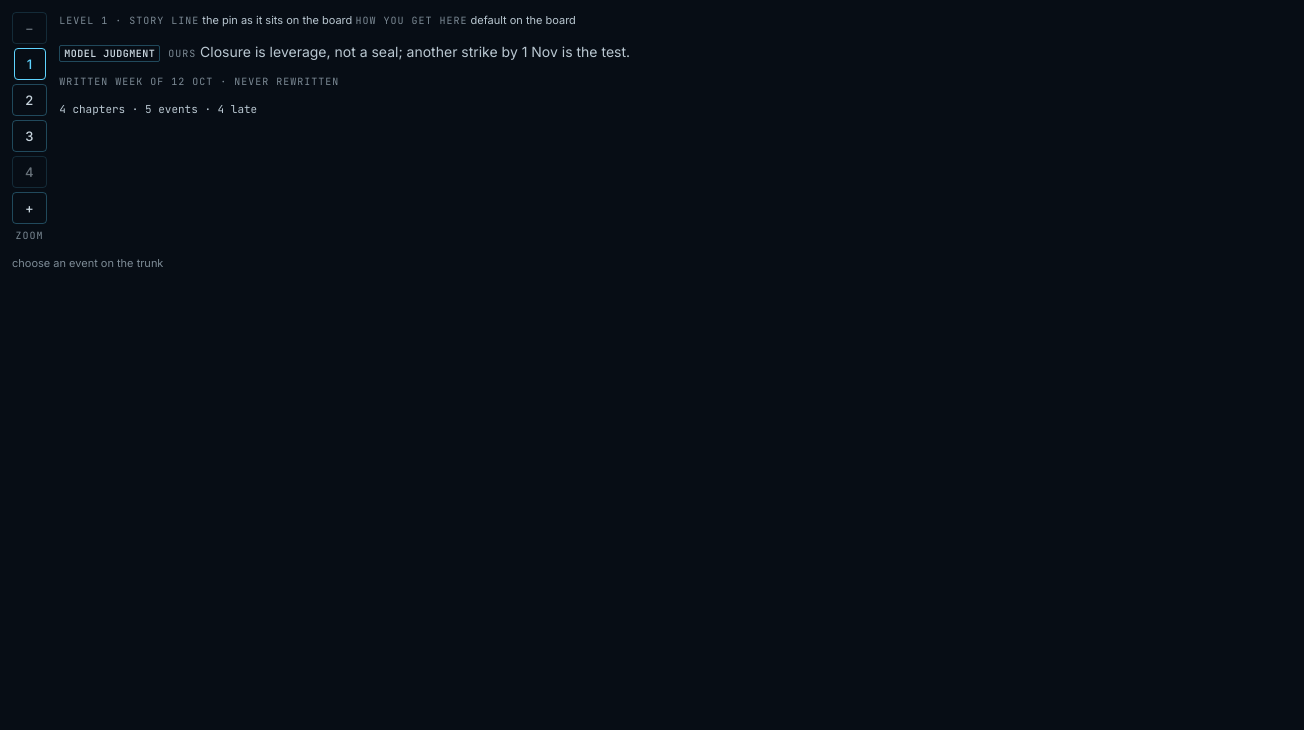
facts date: the record's, not the quiet story's › an unreadable manifest falls back to the story's own stamp and says so
This screenshot has width=1304, height=730.
Click the button "3": (30,136) [12,120,47,152]
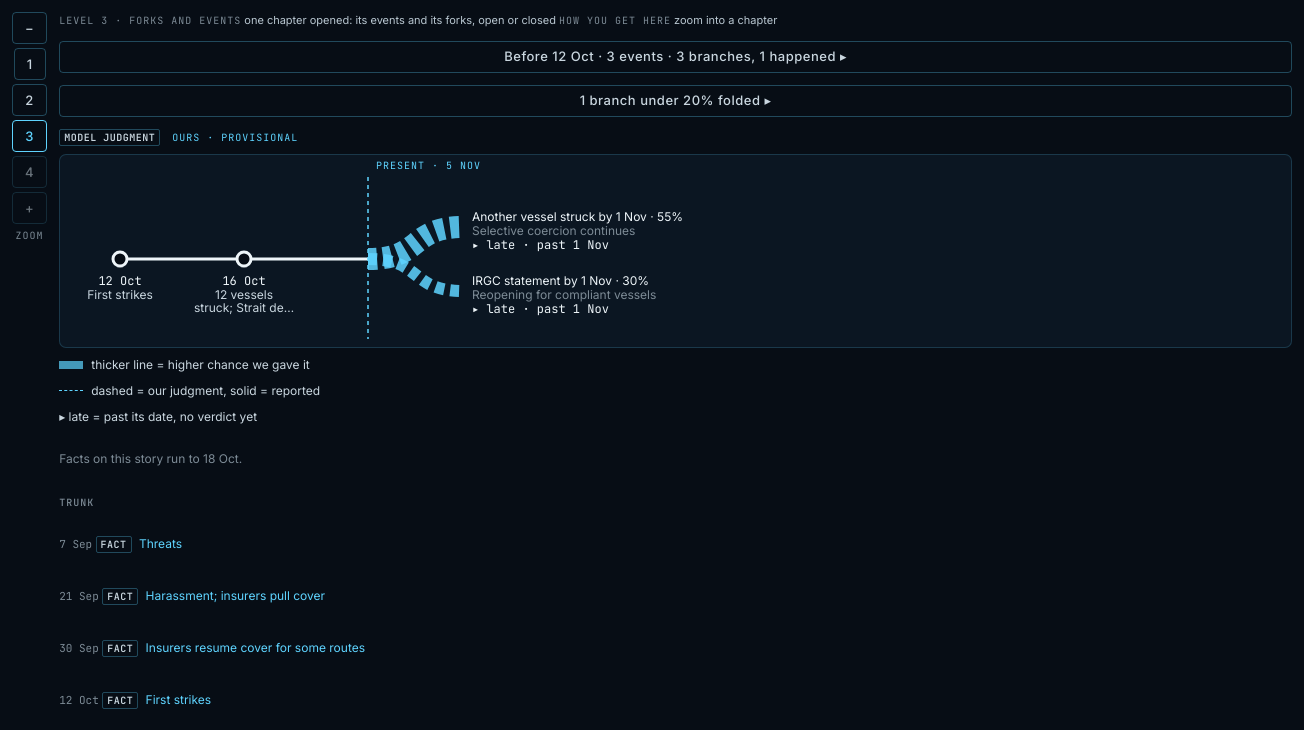
Now the text "Facts on this story run to 18 Oct." is shown, box [59,450,242,466]
